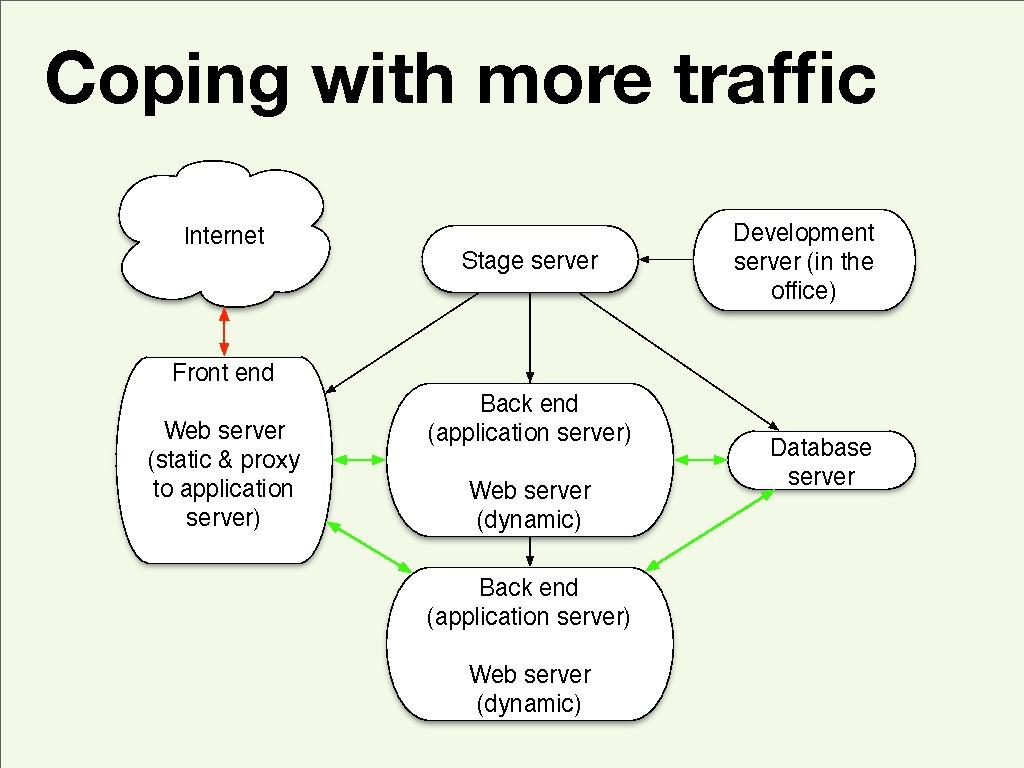title: (46, 25, 892, 123)
